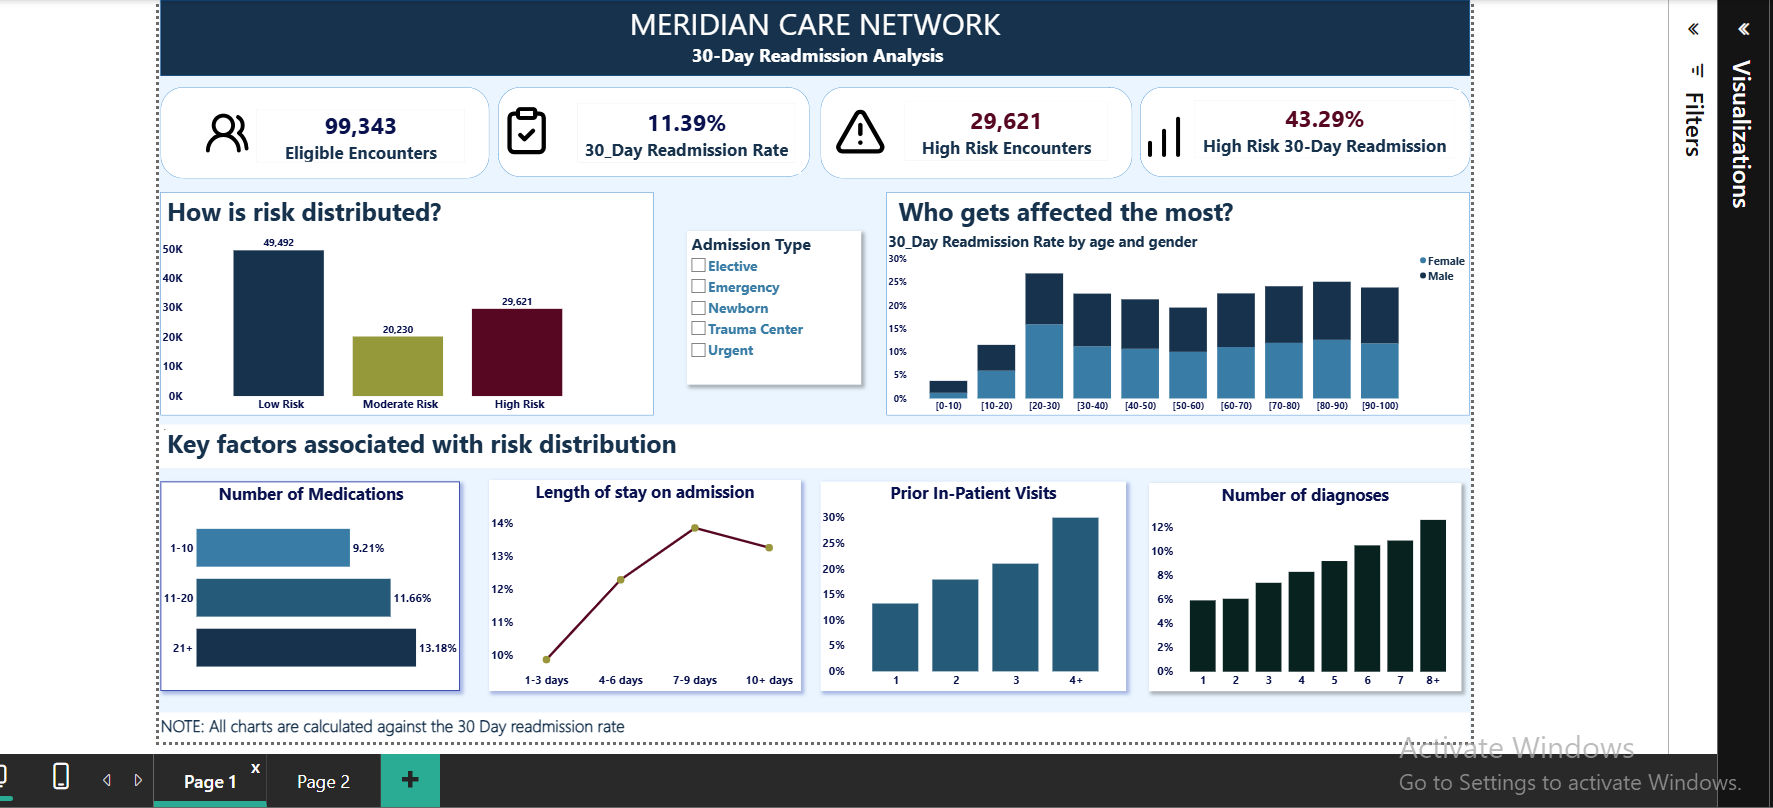

What the dashboard file says about the page in this screenshot:
{"tool":"powerbi","page":{"name":"Page 1","canvas":[3800,2150],"ordinal":0},"visuals":[{"type":"shape","box":[2841,251.7,957.5,260.7],"z":0},{"type":"shape","box":[1915,251.7,903.6,265.2],"z":1000},{"type":"shape","box":[984.5,251.7,903.6,260.7],"z":2000},{"type":"shape","box":[4.5,251.7,953,265.2],"z":3000},{"type":"shape","box":[2108.3,557.4,1690.2,647.3],"z":4000},{"type":"slicer","title":"Filter","fields":{"Values":["diabetic_encounter_raw(1).admission_type.description"]},"box":[1528.4,667.8,504.5,445.2],"z":5000},{"type":"shape","box":[4.5,557.4,1429.5,647.3],"z":6000},{"type":"shape","box":[4.5,0,3794,220.3],"z":7000},{"type":"columnChart","fields":{"Category":["diabetic_encounter_raw(1).age"],"Y":["diabetic_encounter_raw(1).30_Day Readmission Rate"],"Series":["diabetic_encounter_raw(1).gender"]},"box":[2108.3,669.8,1690.2,534.9],"z":8000},{"type":"lineChart","title":" Length of stay on admission","fields":{"Y":["diabetic_encounter_raw(1).30_Day Readmission Rate"],"Category":["diabetic_encounter_raw(1).Length_of_Stay"]},"box":[957.5,1389,903.6,611.4],"z":9000},{"type":"columnChart","title":"Prior In-Patient Visits","fields":{"Category":["diabetic_encounter_raw(1).In-patient band"],"Y":["diabetic_encounter_raw(1).30_Day Readmission Rate"]},"box":[1915,1393.5,885.6,606.9],"z":10000},{"type":"clusteredBarChart","title":"Number of  Medications","fields":{"Category":["diabetic_encounter_raw(1).Medication Band"],"Y":["diabetic_encounter_raw(1).30_Day Readmission Rate"]},"box":[4.5,1393.5,867.6,606.9],"z":11000},{"type":"textbox","box":[4.5,0,3794,220.3],"z":12000},{"type":"cardVisual","title":"Eligible Encounters","fields":{"Data":["IDS_mapping(2) (1).Eligible Encounters Display"]},"box":[265.2,287.7,638.3,215.8],"z":13000},{"type":"cardVisual","title":"30 Day Readmissions Rate","fields":{"Data":["diabetic_encounter_raw(1).30_Day Readmission Rate"]},"box":[1195.7,269.7,665.3,233.8],"z":14000},{"type":"cardVisual","title":"High Risk Encounters","fields":{"Data":["IDS_mapping(2) (1).High Risk Encounters Display"]},"box":[2144.3,265.2,624.8,233.8],"z":15000},{"type":"cardVisual","title":"Readmission Rate in High-Risk Tier","fields":{"Data":["IDS_mapping(2) (1).High Risk Readmissions Display"]},"box":[2980.4,260.7,791.2,229.3],"z":16000},{"type":"columnChart","title":"Number of diagnoses","fields":{"Category":["diabetic_encounter_raw(1).diagnosis-band"],"Y":["diabetic_encounter_raw(1).30_Day Readmission Rate"]},"box":[2868.9,1399.8,905.2,603.5],"z":17000},{"type":"clusteredColumnChart","fields":{"Category":["diabetic_encounter_raw(1).Risk_Tier"],"Y":["diabetic_encounter_raw(1).Total Encounters"]},"box":[4.5,669.8,1321.6,534.9],"z":18000},{"type":"textbox","box":[0,557.4,1438.5,112.4],"z":19000},{"type":"textbox","box":[2108.3,557.4,1690.2,112.4],"z":20000},{"type":"textbox","box":[0,1231.7,3798.5,125.9],"z":21000},{"type":"image","box":[130.4,287.7,134.9,197.8],"z":22000},{"type":"image","box":[984.5,305.7,166.3,148.3],"z":23000},{"type":"image","box":[1955.5,283.2,152.8,197.8],"z":24000},{"type":"image","box":[2841,305.7,139.4,184.3],"z":25000},{"type":"textbox","box":[0,2063.3,3798.5,85.4],"z":26000}]}

Visuals, with their boxes on the page's 3800x2150 design canvas (x1, y1, x2, y2). These are canvas units, not pixel positions in the 1773x808 screenshot, which may show the page scaled, cropped or inside an application window:
shape: [x1=2841, y1=252, x2=3798, y2=512]
shape: [x1=1915, y1=252, x2=2819, y2=517]
shape: [x1=984, y1=252, x2=1888, y2=512]
shape: [x1=4, y1=252, x2=958, y2=517]
shape: [x1=2108, y1=557, x2=3798, y2=1205]
"Filter" slicer: [x1=1528, y1=668, x2=2033, y2=1113]
shape: [x1=4, y1=557, x2=1434, y2=1205]
shape: [x1=4, y1=0, x2=3798, y2=220]
columnChart - diabetic_encounter_raw(1).age x diabetic_encounter_raw(1).30_Day Readmission Rate: [x1=2108, y1=670, x2=3798, y2=1205]
" Length of stay on admission" lineChart: [x1=958, y1=1389, x2=1861, y2=2000]
"Prior In-Patient Visits" columnChart: [x1=1915, y1=1394, x2=2801, y2=2000]
"Number of  Medications" clusteredBarChart: [x1=4, y1=1394, x2=872, y2=2000]
textbox: [x1=4, y1=0, x2=3798, y2=220]
"Eligible Encounters" cardVisual: [x1=265, y1=288, x2=904, y2=504]
"30 Day Readmissions Rate" cardVisual: [x1=1196, y1=270, x2=1861, y2=504]
"High Risk Encounters" cardVisual: [x1=2144, y1=265, x2=2769, y2=499]
"Readmission Rate in High-Risk Tier" cardVisual: [x1=2980, y1=261, x2=3772, y2=490]
"Number of diagnoses" columnChart: [x1=2869, y1=1400, x2=3774, y2=2003]
clusteredColumnChart - diabetic_encounter_raw(1).Risk_Tier x diabetic_encounter_raw(1).Total Encounters: [x1=4, y1=670, x2=1326, y2=1205]
textbox: [x1=0, y1=557, x2=1438, y2=670]
textbox: [x1=2108, y1=557, x2=3798, y2=670]
textbox: [x1=0, y1=1232, x2=3798, y2=1358]
image: [x1=130, y1=288, x2=265, y2=486]
image: [x1=984, y1=306, x2=1151, y2=454]
image: [x1=1956, y1=283, x2=2108, y2=481]
image: [x1=2841, y1=306, x2=2980, y2=490]
textbox: [x1=0, y1=2063, x2=3798, y2=2149]
